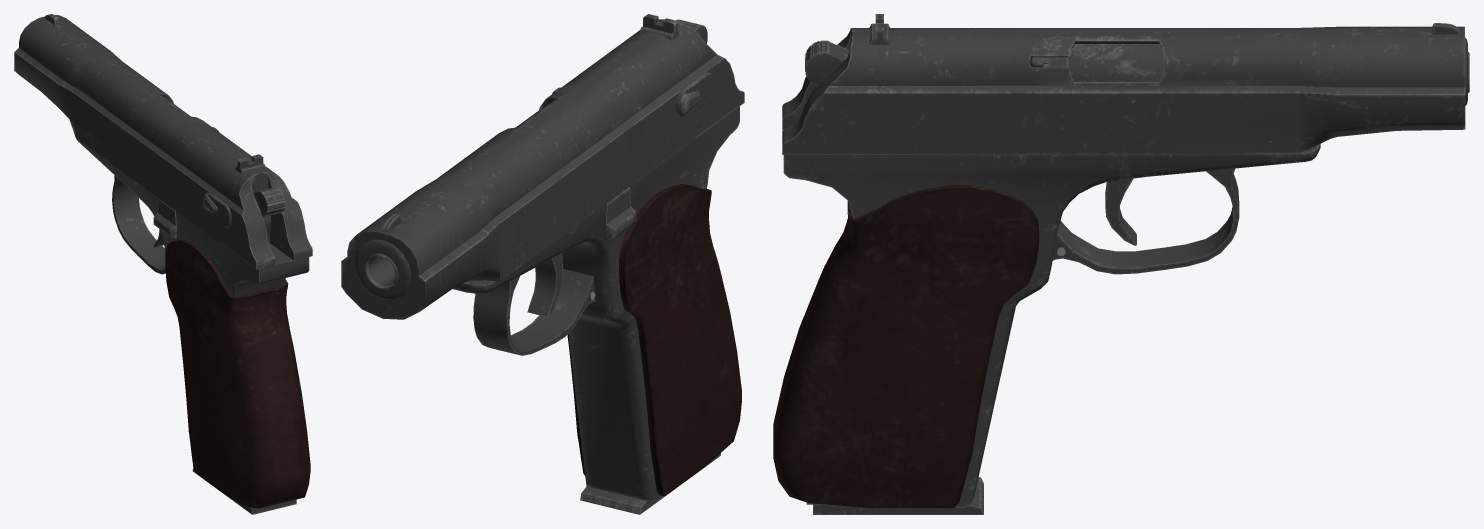
Rendered from makarov.glb.
3 renders of one model, left to right at view 1: azimuth 30°, elevation 25°; view 2: azimuth 150°, elevation 25°; view 3: azimuth 270°, elevation 25°, orthographic. The views are drawn at different scales.
Parts seen in each view (by area): view 1: Body, Slide, Hammer, Safety, Magazine; view 2: Body, Slide, Trigger, Magazine, Barrel, Safety; view 3: Body, Slide, Barrel, Magazine, Hammer, Trigger.
Boxes of the visible parts, x1,y1,x2,y2 form: Body: (75, 137, 310, 509); Slide: (14, 14, 312, 269); Hammer: (253, 187, 285, 240); Safety: (203, 192, 231, 227); Magazine: (192, 468, 296, 514); Body: (453, 106, 741, 501); Slide: (341, 14, 744, 319); Trigger: (527, 253, 563, 317); Magazine: (580, 453, 720, 514); Barrel: (364, 102, 551, 289); Safety: (676, 72, 713, 116); Body: (773, 144, 1320, 507); Slide: (782, 14, 1467, 154); Barrel: (1069, 44, 1469, 92); Magazine: (813, 477, 983, 514); Hammer: (805, 40, 849, 85); Trigger: (1105, 178, 1136, 245).
Bounding box in the file's own units: 0.0257 × 0.1276 × 0.1685.
Materials: 1 (1 with a texture image).
